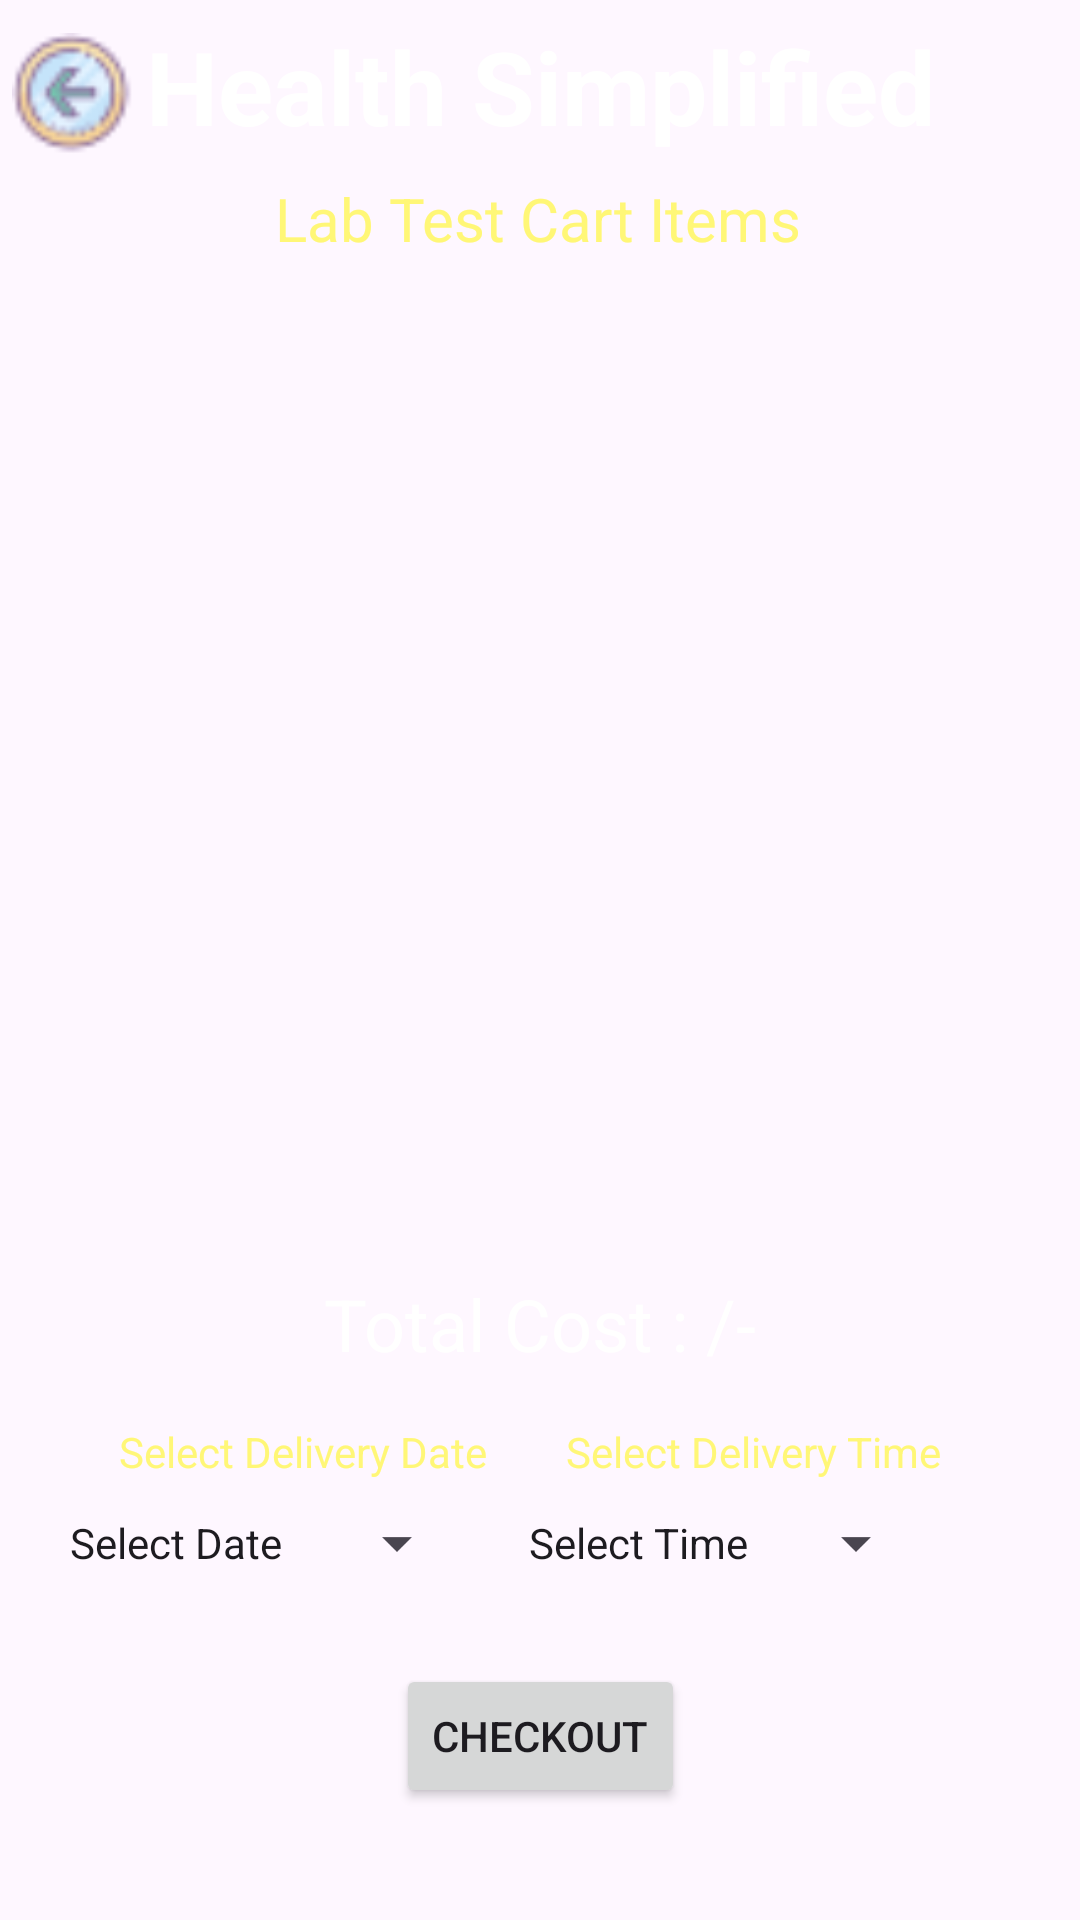

Point at icon controls on the screen. Image size 1080px x 1920px, points as (x=x, y=y).
back: (x=71, y=92)
